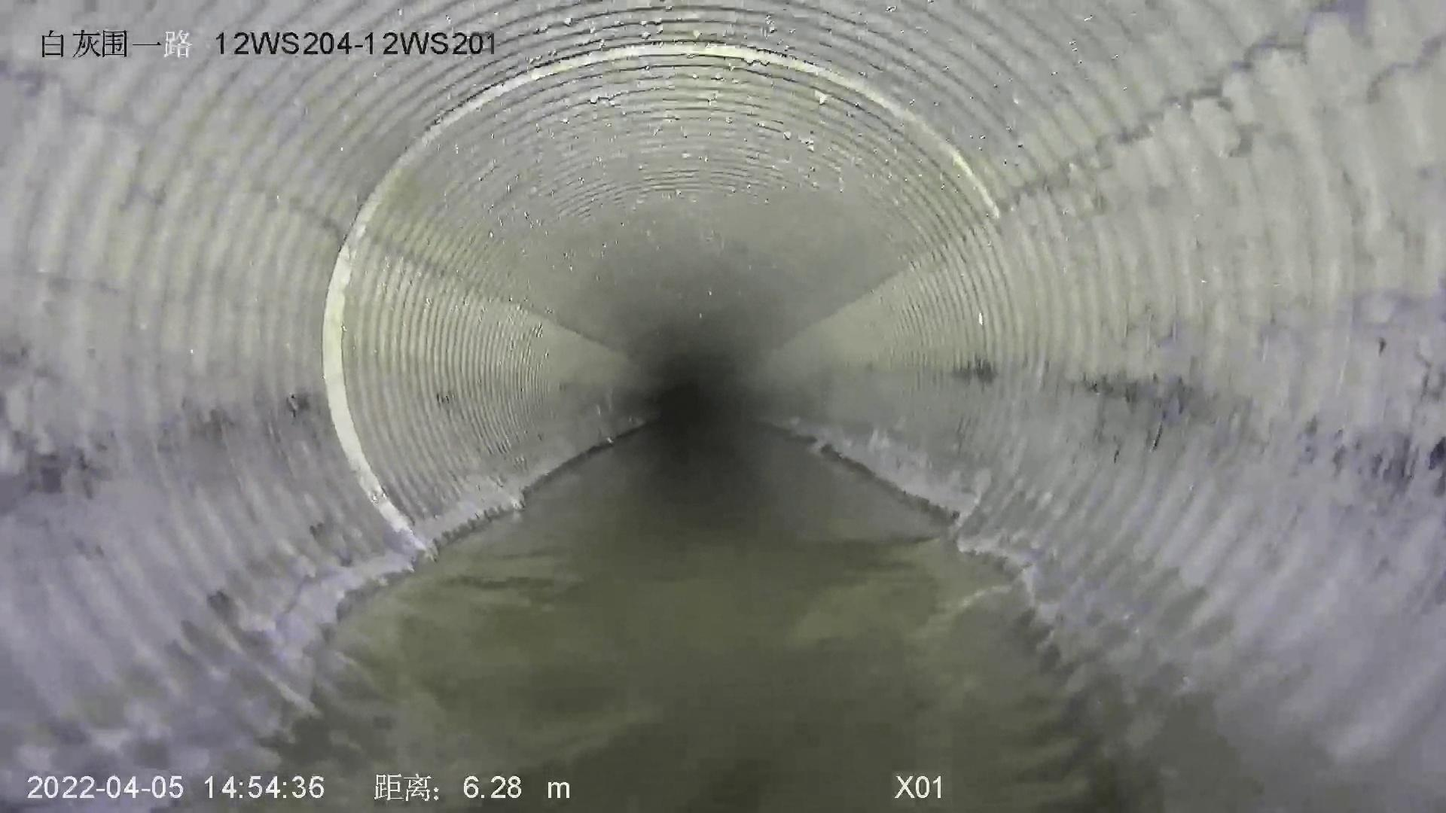CKTJ: (321, 41, 1001, 534)
